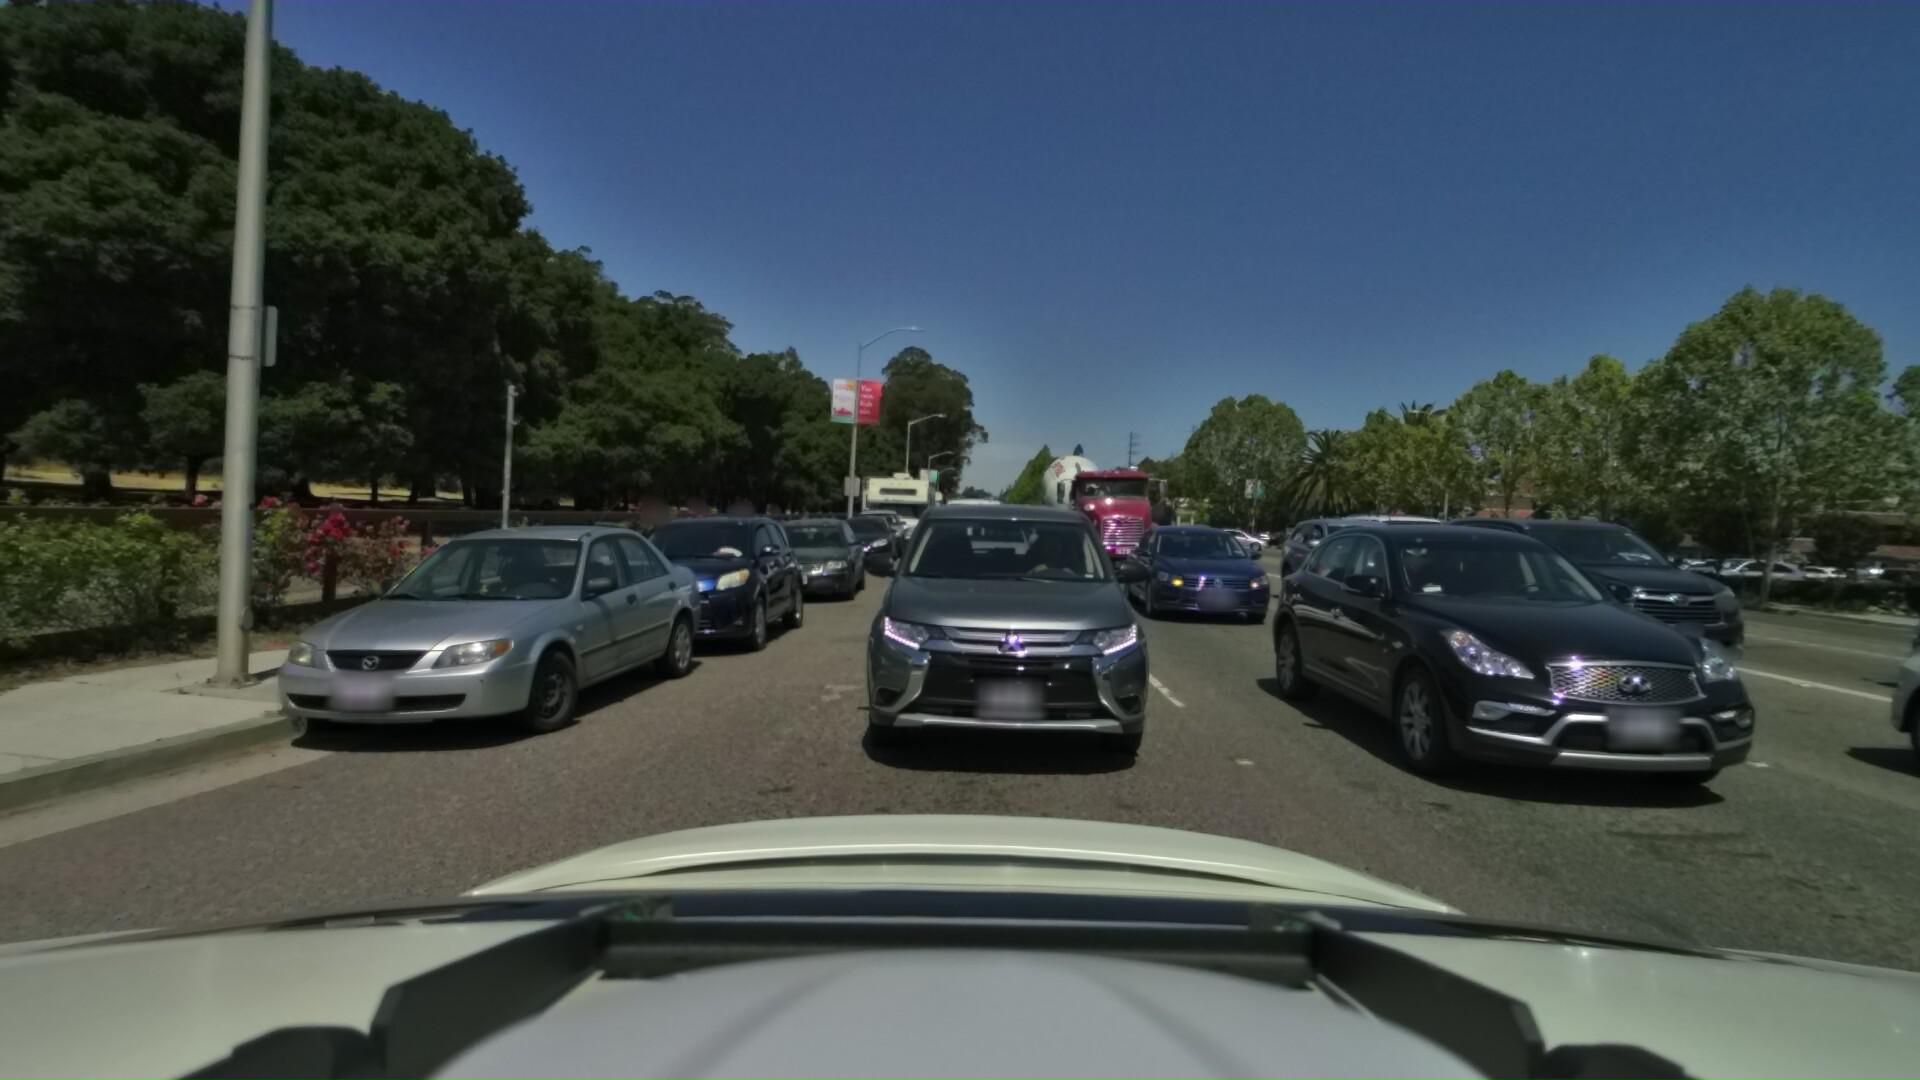car: (1244, 512, 1815, 825), (828, 465, 1193, 800), (233, 516, 712, 765), (1395, 502, 1778, 688), (1799, 524, 1920, 1034), (591, 506, 814, 657), (1269, 508, 1448, 615), (1116, 517, 1283, 629), (1321, 502, 1482, 593), (920, 495, 1029, 605), (752, 512, 868, 605), (927, 488, 1011, 562), (1677, 549, 1808, 589), (847, 491, 913, 556), (831, 505, 901, 563), (1557, 538, 1665, 574), (1167, 516, 1228, 551)
other_vehicle: (1025, 419, 1192, 580), (1879, 411, 1920, 852), (853, 448, 942, 549), (1025, 430, 1110, 520)
